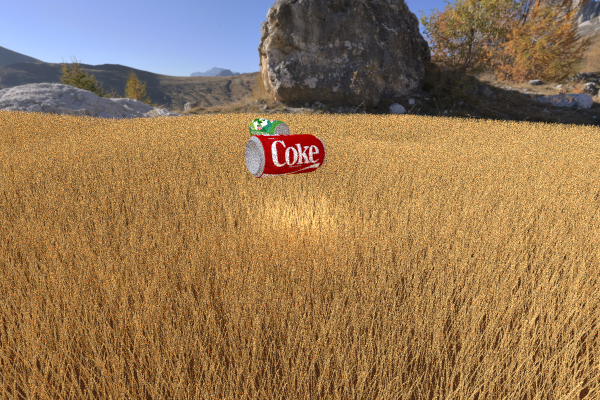Plastic Bottle: (345, 114, 443, 173), (244, 133, 326, 178), (249, 118, 290, 144)
